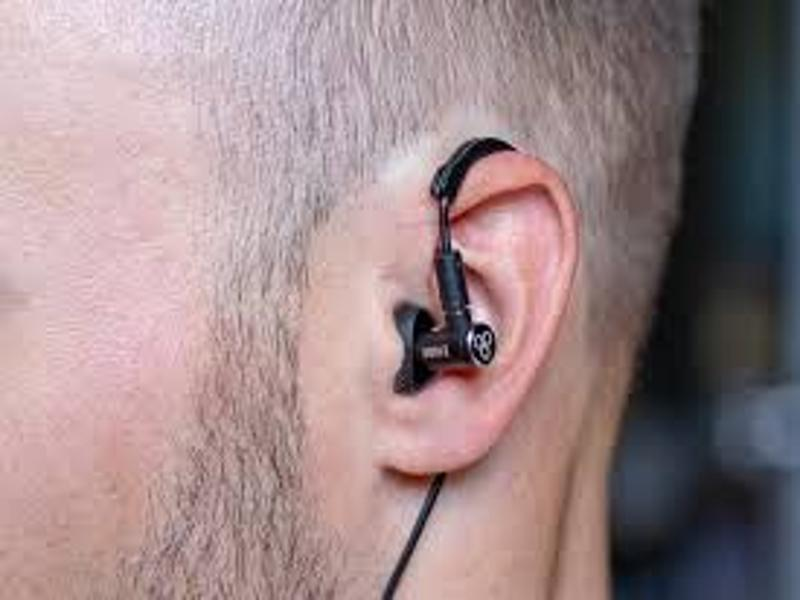headphone: (386, 246, 498, 397)
